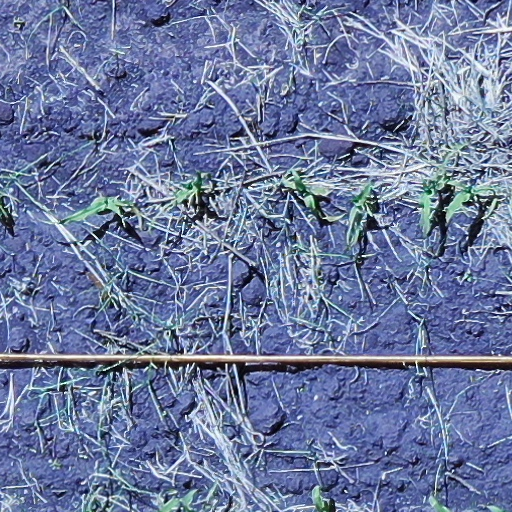planta: (421, 144, 462, 233), (282, 168, 342, 222), (59, 195, 144, 223), (445, 180, 498, 224), (347, 182, 370, 243), (173, 173, 201, 205)
